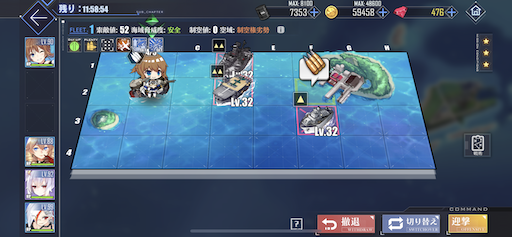lv1: (294, 93, 337, 136)
lv2: (211, 66, 255, 105), (211, 37, 255, 75)
